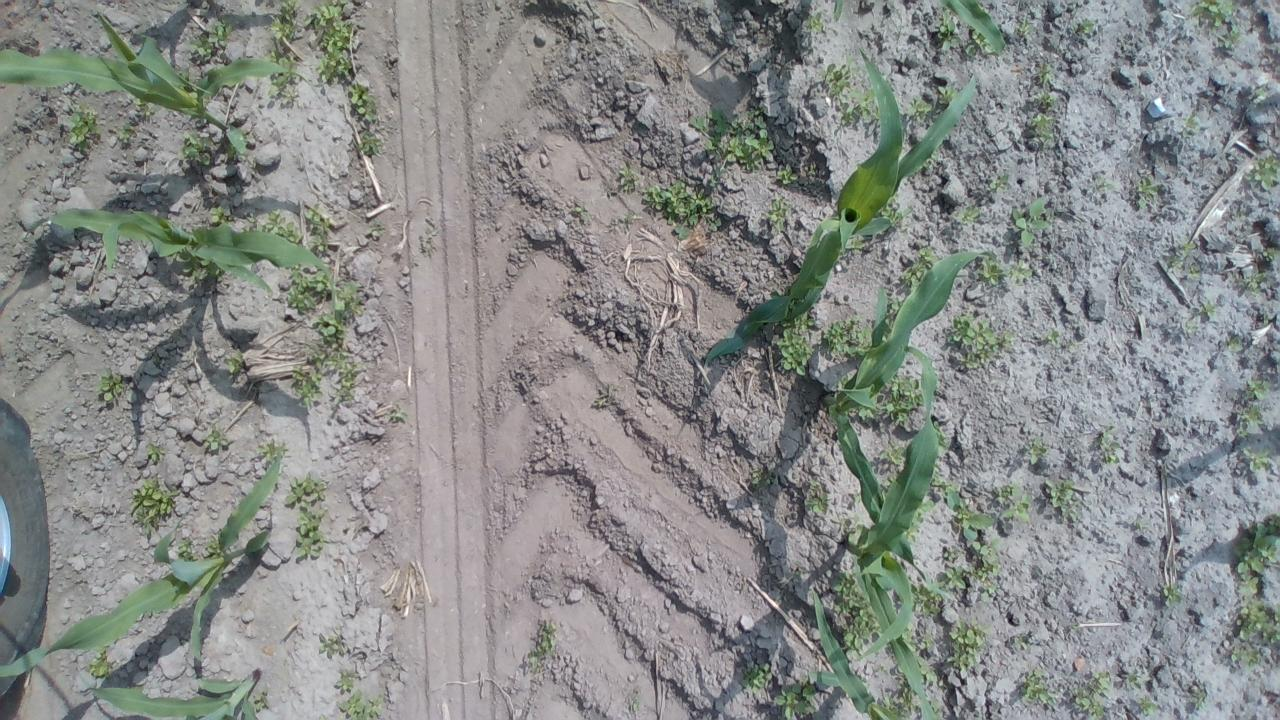Maize: (703, 52, 981, 378), (0, 457, 282, 678), (824, 250, 993, 589), (0, 10, 316, 156), (841, 347, 942, 720), (52, 207, 334, 294), (810, 587, 900, 720), (831, 0, 1006, 58), (86, 674, 260, 720)
Weeds: (689, 105, 774, 178), (929, 464, 993, 542), (641, 180, 721, 242), (290, 350, 368, 411), (832, 568, 882, 658), (302, 0, 355, 83), (1232, 512, 1280, 594), (819, 62, 880, 126), (286, 470, 328, 560), (310, 283, 366, 350), (945, 312, 999, 368), (129, 477, 180, 535), (775, 312, 816, 376), (876, 374, 924, 426), (241, 207, 302, 244), (1011, 195, 1052, 249), (186, 20, 233, 67), (948, 620, 991, 670), (287, 264, 329, 312), (1072, 670, 1112, 720), (822, 318, 872, 358), (883, 667, 918, 720), (774, 678, 818, 720), (900, 246, 940, 292), (1237, 602, 1280, 644), (67, 102, 102, 153), (525, 620, 558, 674), (267, 50, 298, 106), (992, 484, 1034, 524), (1042, 479, 1080, 522), (336, 688, 386, 720), (968, 538, 1003, 582), (1190, 0, 1232, 33), (903, 500, 934, 544), (349, 78, 379, 122), (304, 203, 330, 253), (176, 253, 222, 281), (270, 0, 299, 43), (1022, 671, 1058, 705), (764, 190, 790, 236), (1247, 154, 1280, 190), (909, 582, 943, 616), (976, 251, 1008, 287), (738, 663, 772, 696), (96, 367, 128, 402), (180, 132, 214, 164), (1236, 404, 1265, 440), (879, 197, 912, 228), (937, 11, 962, 50), (882, 298, 903, 342), (255, 438, 288, 464), (904, 94, 932, 124), (804, 480, 830, 512), (86, 648, 112, 678), (962, 33, 993, 58), (932, 420, 952, 458), (879, 438, 908, 464), (1098, 430, 1120, 464), (1241, 446, 1272, 470), (916, 654, 939, 686), (1135, 176, 1158, 208), (1022, 437, 1048, 465), (1031, 112, 1055, 142), (616, 164, 641, 192), (356, 132, 382, 158), (318, 632, 344, 658), (1230, 646, 1262, 667), (204, 424, 228, 452), (944, 564, 969, 590), (1007, 260, 1033, 284), (1242, 270, 1268, 294), (751, 467, 777, 489), (177, 536, 199, 562), (130, 94, 155, 116), (838, 514, 862, 536), (334, 671, 359, 692), (1161, 582, 1182, 606), (1247, 378, 1271, 399), (209, 206, 234, 226), (224, 348, 243, 374), (1137, 695, 1161, 715), (1033, 90, 1057, 110), (958, 204, 982, 224), (115, 120, 135, 143), (252, 687, 271, 711), (914, 632, 936, 652), (935, 86, 957, 106), (777, 164, 798, 184), (1188, 685, 1207, 707), (988, 174, 1008, 194), (386, 405, 408, 423), (856, 404, 876, 423), (1037, 62, 1054, 84), (1093, 174, 1115, 191), (144, 444, 167, 460), (1125, 672, 1145, 690), (1070, 18, 1094, 33), (206, 535, 222, 557), (806, 13, 824, 32), (979, 584, 998, 602), (1223, 31, 1241, 49), (998, 329, 1016, 347), (849, 238, 866, 255), (1166, 254, 1184, 270), (1262, 246, 1280, 262), (1202, 302, 1218, 320), (626, 695, 642, 712), (1012, 633, 1028, 650), (1016, 18, 1032, 35), (1182, 238, 1198, 255), (593, 393, 609, 410), (368, 221, 384, 238), (574, 204, 590, 220), (942, 546, 958, 562), (1046, 328, 1060, 346), (882, 472, 896, 488), (806, 161, 819, 178), (175, 68, 192, 81), (1184, 115, 1198, 130), (835, 376, 849, 390), (1227, 337, 1242, 350), (1188, 264, 1202, 276), (1136, 520, 1152, 530), (240, 128, 252, 140), (1186, 319, 1196, 333), (852, 492, 862, 506), (624, 214, 632, 230), (318, 714, 328, 720), (1264, 313, 1268, 326), (1071, 624, 1079, 630)
